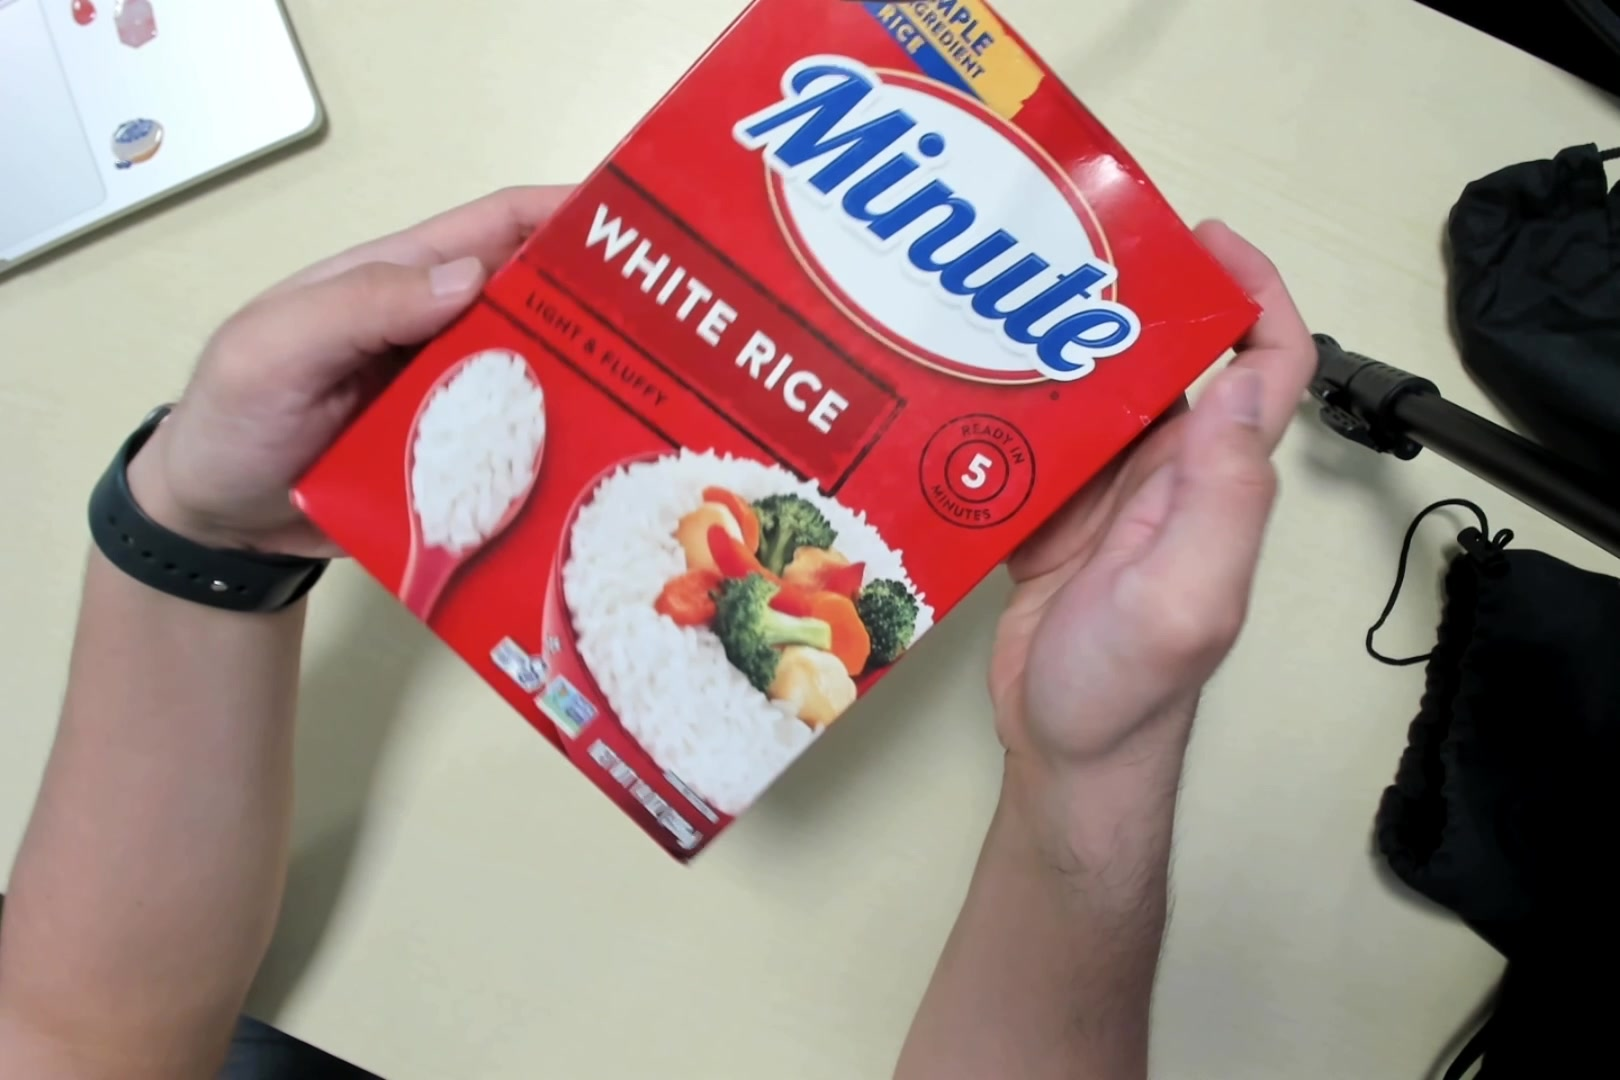Rice(White)_300-399g_NonHalal_NonHealthy: (280, 2, 1264, 857)
